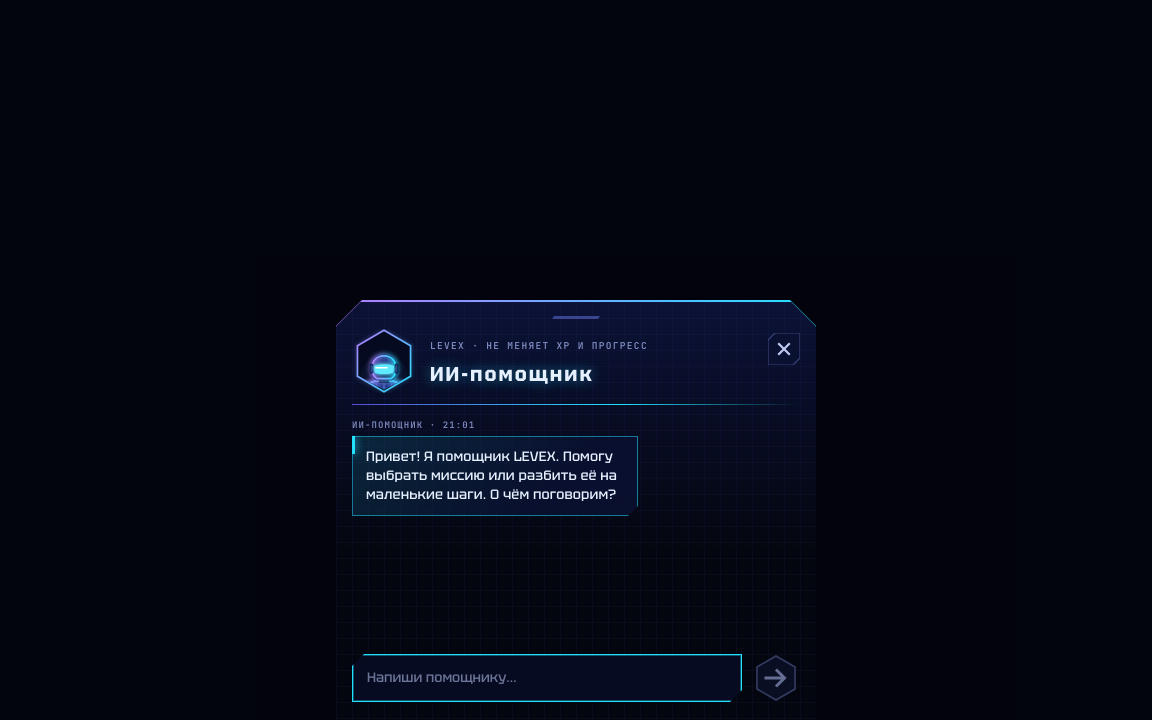
Test: AssistantChat › goes idle → listening → thinking → speaking → listening, with matching art
Later steps or results of the test are not shown.
Type "Что делать?" into the text box named "Сообщение помощнику" at (547, 678), box [352,654,742,702]
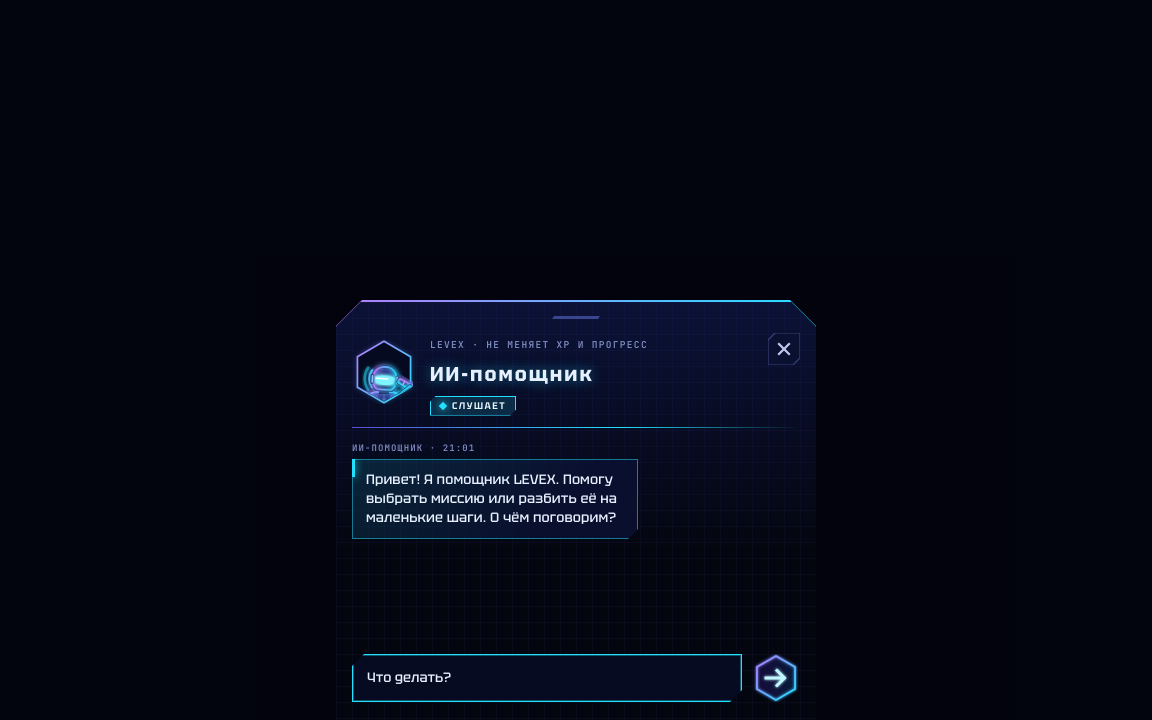
Expected: the text "СЛУШАЕТ" is shown, [430,396,516,416]
Press Enter in the text box named "Сообщение помощнику", box [352,654,742,702]
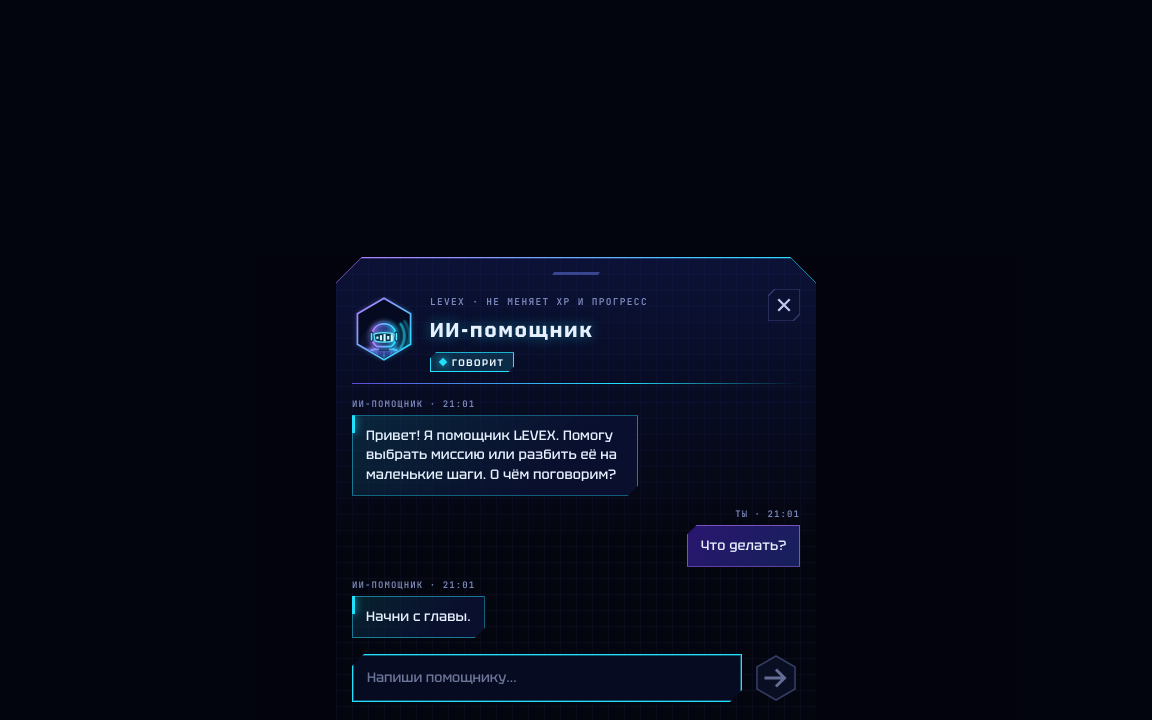
Expected: the text "Начни с главы." is shown, [352,596,485,638]
Expected: the text "ГОВОРИТ" is shown, [430,352,514,372]
